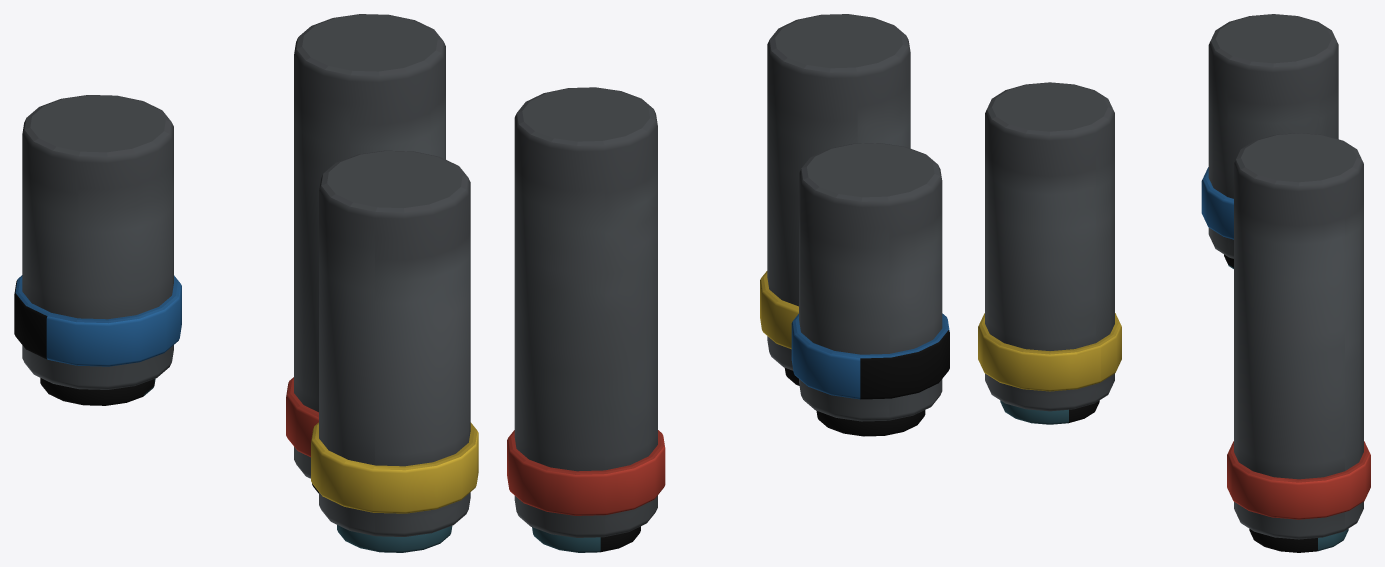
The model's file is 4_objectives.obj.
3 renders of one model, left to right at view 1: azimuth 30°, elevation 25°; view 2: azimuth 150°, elevation 25°; view 3: azimuth 270°, elevation 25°, orthographic. The views are drawn at different scales.
Bounding box in the file's own units: 0.2484 × 0.2421 × 0.2294.
Materials: 1 (1 with a texture image).
